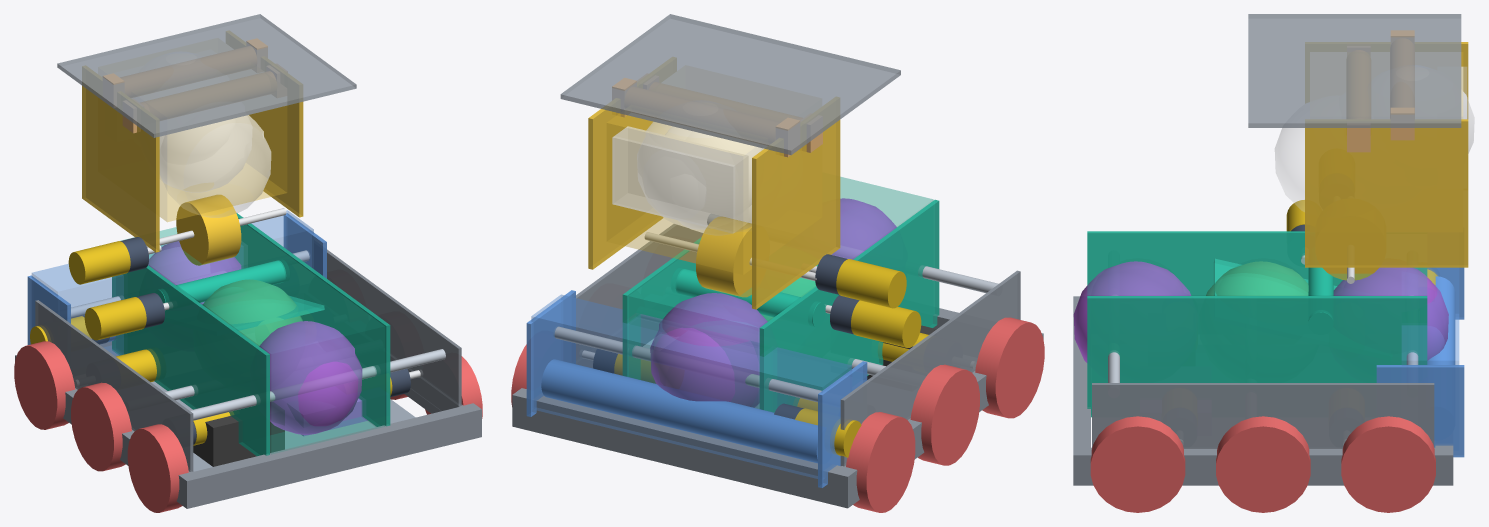
File: demo-ftc-robot.glb
3 renders of one model, left to right at view 1: azimuth 30°, elevation 25°; view 2: azimuth 150°, elevation 25°; view 3: azimuth 270°, elevation 25°, orthographic. The views are drawn at different scales.
Parts seen in each view (by area): view 1: =>[0:1:1:81], =>[0:1:1:24], =>[0:1:1:83], =>[0:1:1:98], =>[0:1:1:10], =>[0:1:1:100], =>[0:1:1:135], =>[0:1:1:85], =>[0:1:1:127], =>[0:1:1:14], =>[0:1:1:16], =>[0:1:1:66] (+26 smaller); view 2: =>[0:1:1:66], =>[0:1:1:24], =>[0:1:1:98], =>[0:1:1:81], =>[0:1:1:83], =>[0:1:1:100], =>[0:1:1:8], =>[0:1:1:72], =>[0:1:1:133], =>[0:1:1:139], =>[0:1:1:14], =>[0:1:1:102] (+24 smaller); view 3: =>[0:1:1:85], =>[0:1:1:24], =>[0:1:1:102], =>[0:1:1:81], =>[0:1:1:16], =>[0:1:1:83], =>[0:1:1:46], =>[0:1:1:48], =>[0:1:1:50], =>[0:1:1:66], =>[0:1:1:6], =>[0:1:1:70] (+15 smaller).
Part boxes in pixels (left/top/right/bottom): =>[0:1:1:81]: left=121, top=225, right=384, bottom=453; =>[0:1:1:24]: left=57, top=14, right=356, bottom=137; =>[0:1:1:83]: left=112, top=265, right=269, bottom=456; =>[0:1:1:98]: left=160, top=106, right=286, bottom=221; =>[0:1:1:10]: left=187, top=405, right=474, bottom=506; =>[0:1:1:100]: left=82, top=66, right=159, bottom=252; =>[0:1:1:135]: left=259, top=321, right=362, bottom=434; =>[0:1:1:85]: left=235, top=213, right=390, bottom=426; =>[0:1:1:127]: left=160, top=115, right=270, bottom=217; =>[0:1:1:14]: left=35, top=300, right=193, bottom=471; =>[0:1:1:16]: left=327, top=249, right=461, bottom=411; =>[0:1:1:66]: left=31, top=210, right=313, bottom=356; =>[0:1:1:66]: left=531, top=294, right=852, bottom=478; =>[0:1:1:24]: left=560, top=14, right=900, bottom=155; =>[0:1:1:98]: left=607, top=113, right=762, bottom=274; =>[0:1:1:81]: left=629, top=177, right=933, bottom=408; =>[0:1:1:83]: left=759, top=199, right=939, bottom=412; =>[0:1:1:100]: left=752, top=97, right=840, bottom=309; =>[0:1:1:8]: left=520, top=392, right=848, bottom=506; =>[0:1:1:72]: left=541, top=359, right=817, bottom=463; =>[0:1:1:133]: left=612, top=126, right=748, bottom=233; =>[0:1:1:139]: left=650, top=293, right=767, bottom=407; =>[0:1:1:14]: left=840, top=270, right=1020, bottom=466; =>[0:1:1:102]: left=588, top=57, right=676, bottom=269; =>[0:1:1:85]: left=1087, top=296, right=1427, bottom=417; =>[0:1:1:24]: left=1248, top=14, right=1461, bottom=127; =>[0:1:1:102]: left=1305, top=119, right=1468, bottom=267; =>[0:1:1:81]: left=1087, top=234, right=1426, bottom=295; =>[0:1:1:16]: left=1092, top=383, right=1434, bottom=448; =>[0:1:1:83]: left=1087, top=231, right=1426, bottom=295; =>[0:1:1:46]: left=1090, top=416, right=1185, bottom=512; =>[0:1:1:48]: left=1216, top=416, right=1310, bottom=512; =>[0:1:1:50]: left=1341, top=416, right=1435, bottom=512; =>[0:1:1:66]: left=1402, top=268, right=1459, bottom=366; =>[0:1:1:6]: left=1073, top=447, right=1453, bottom=485; =>[0:1:1:70]: left=1376, top=365, right=1464, bottom=457.
Bounding box in the file's own units: 0.4 × 0.3995 × 0.4035.
